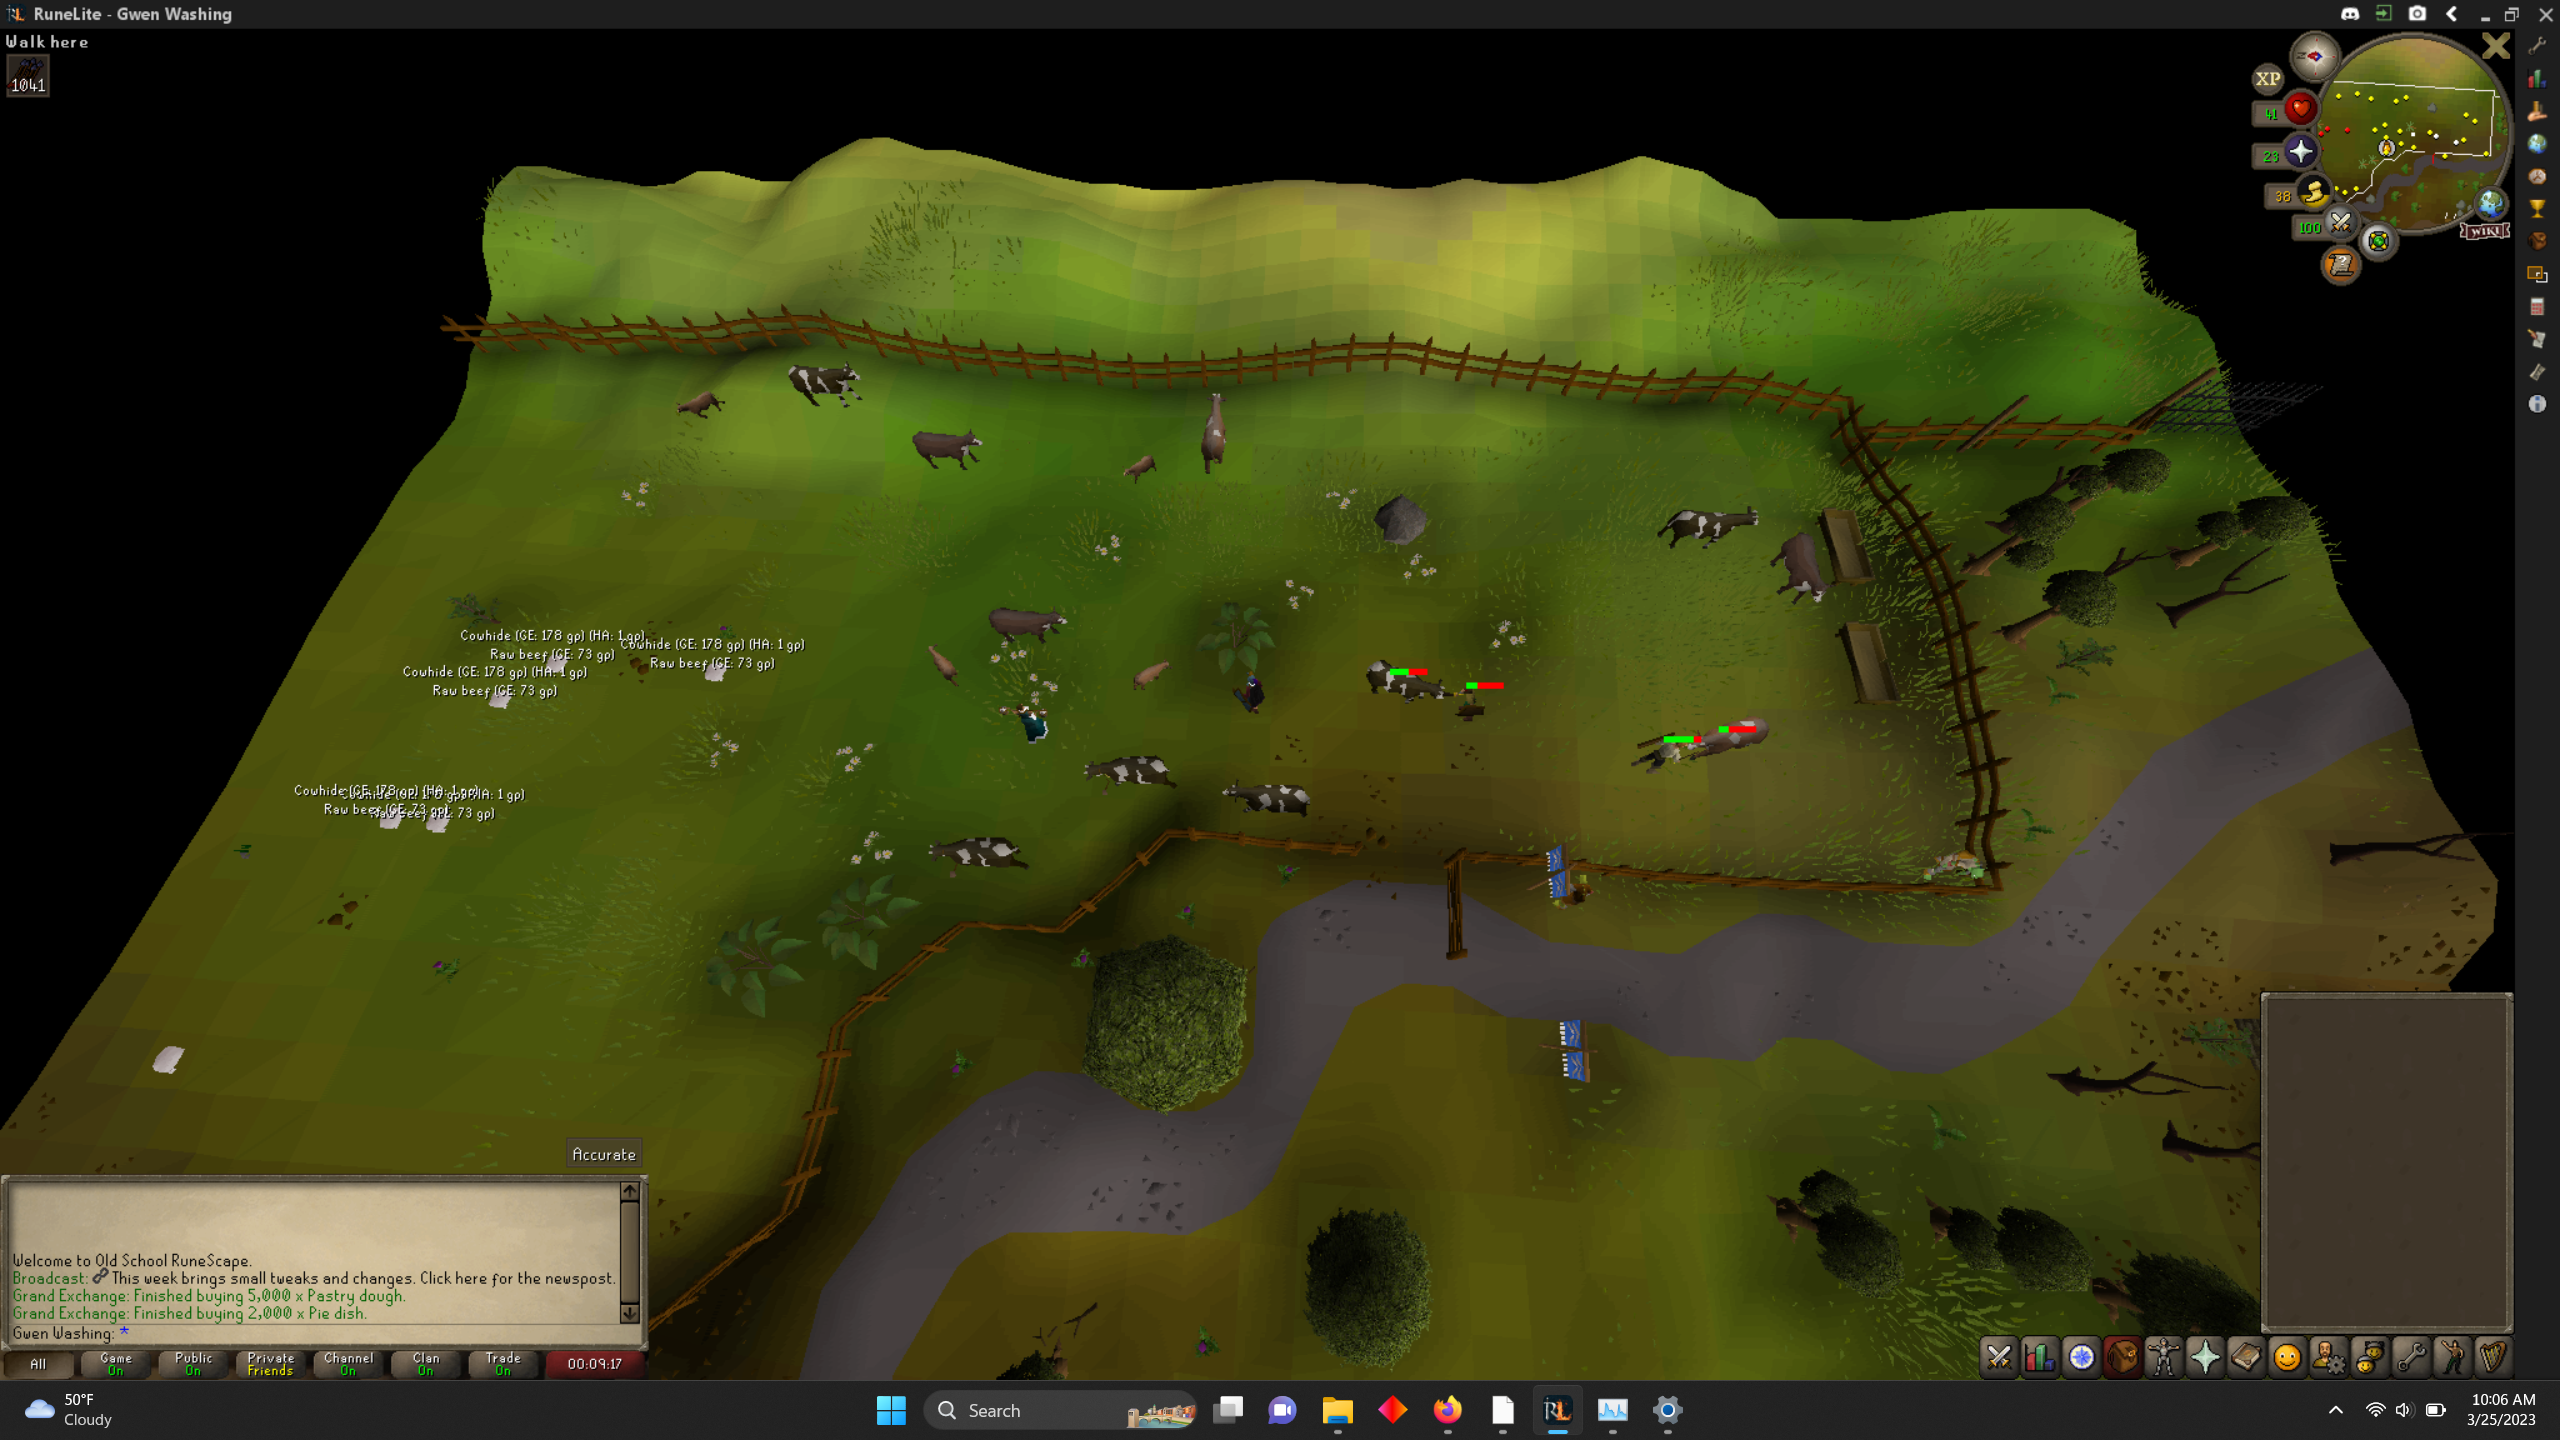cow: (1656, 505, 1765, 557), (978, 600, 1078, 652), (1771, 524, 1829, 612), (1363, 654, 1454, 707), (925, 833, 1034, 877), (1686, 712, 1779, 763), (784, 357, 863, 417), (1085, 745, 1180, 795), (1218, 775, 1319, 821), (1190, 385, 1234, 476), (913, 424, 988, 476), (673, 385, 728, 427), (1115, 450, 1166, 489), (923, 636, 964, 684), (1129, 658, 1176, 695)
